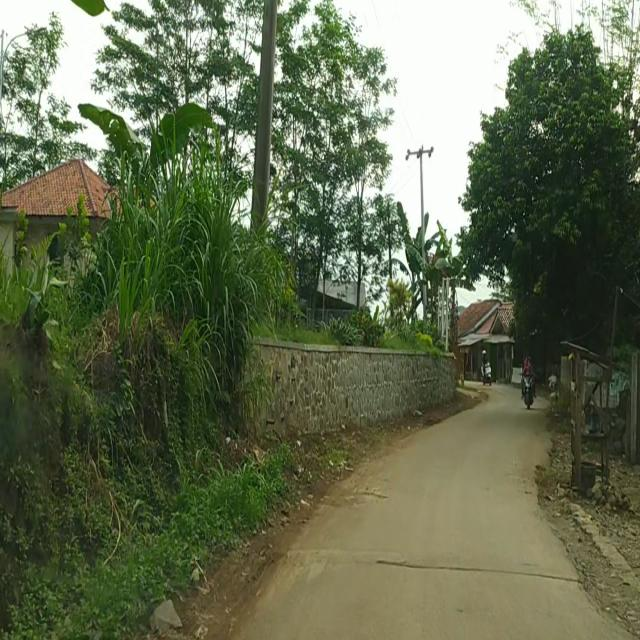Sewer Cover: (368, 559, 588, 589)
